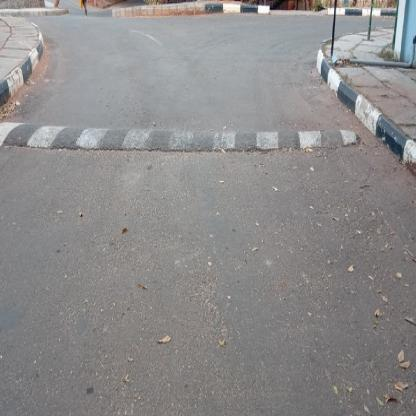speed-bumps: (0, 99, 370, 173)
